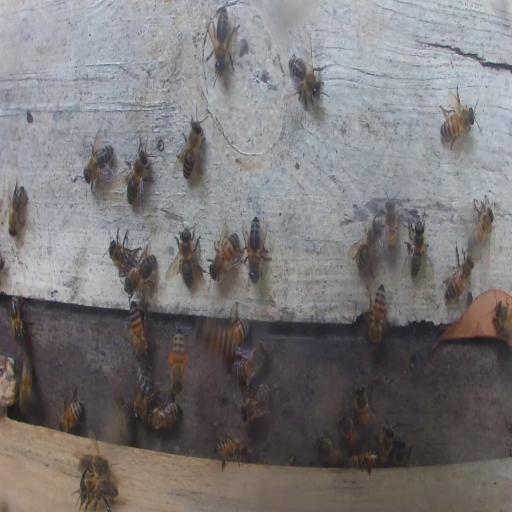nonpollenbee: (196, 309, 236, 369), (287, 46, 325, 108), (175, 113, 205, 181), (207, 8, 238, 68), (81, 136, 115, 190), (352, 213, 382, 273), (244, 213, 270, 282), (210, 227, 242, 283), (443, 246, 474, 302), (172, 221, 197, 288), (126, 141, 151, 207), (106, 226, 138, 276), (406, 209, 428, 275), (438, 105, 476, 141), (234, 341, 266, 383), (82, 475, 118, 511), (367, 283, 387, 347), (126, 252, 155, 296), (240, 382, 270, 423), (469, 197, 494, 246), (129, 300, 148, 363), (213, 436, 248, 470), (7, 181, 27, 239), (59, 387, 84, 433), (132, 368, 153, 422), (314, 435, 346, 467), (149, 397, 180, 430), (383, 191, 399, 254), (353, 380, 374, 428), (338, 407, 360, 447), (378, 420, 397, 463), (492, 300, 512, 338), (20, 356, 33, 414), (78, 451, 107, 476), (221, 321, 251, 344), (347, 453, 379, 473), (11, 295, 24, 342), (393, 438, 411, 464)
pollenbee: (168, 328, 188, 392)
